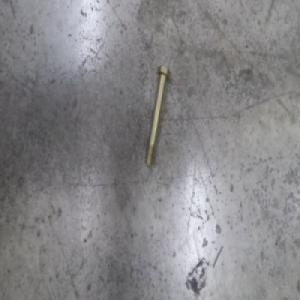Bolt: (143, 63, 171, 168)
